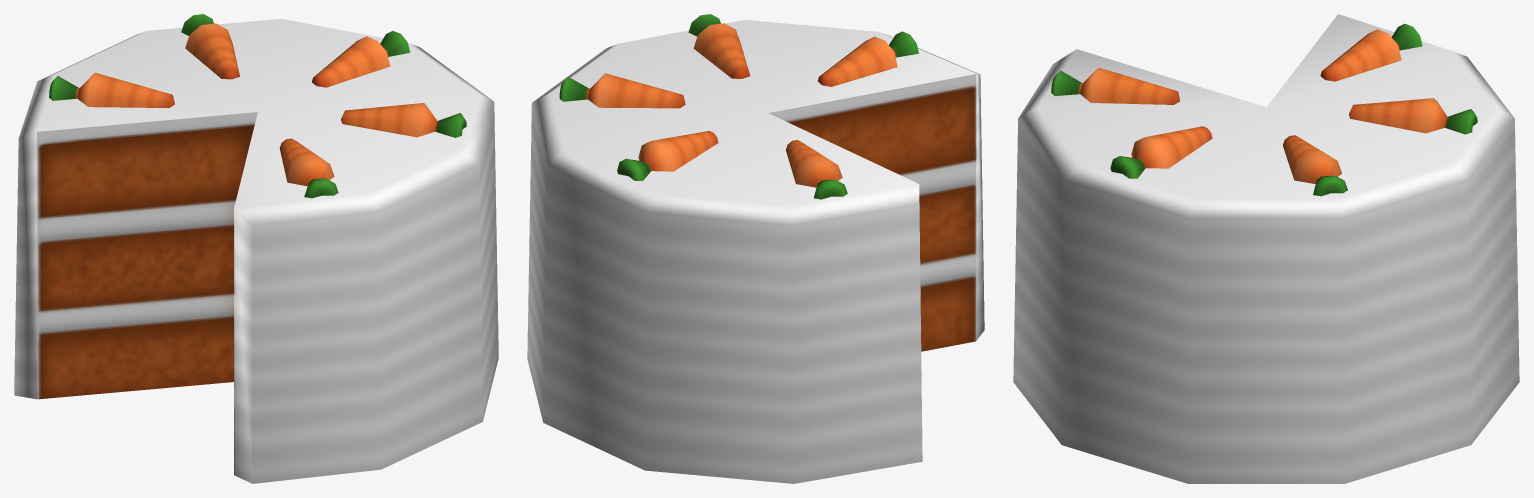
Rendered from Carrot_Tall_Cut.fbx.
The picture shows the model from 3 angles, left to right: view 1: azimuth 30°, elevation 25°; view 2: azimuth 150°, elevation 25°; view 3: azimuth 270°, elevation 25°; orthographic projection. The views are drawn at different scales.
Parts seen in each view (by area): view 1: Carrot_Tall_Cut; view 2: Carrot_Tall_Cut; view 3: Carrot_Tall_Cut.
Part boxes in pixels (x1=…): Carrot_Tall_Cut: x1=14, y1=14, x2=498, y2=483; Carrot_Tall_Cut: x1=527, y1=14, x2=984, y2=483; Carrot_Tall_Cut: x1=1013, y1=14, x2=1519, y2=483.
Bounding box in the file's own units: 76.8 × 52.78 × 81.5.
